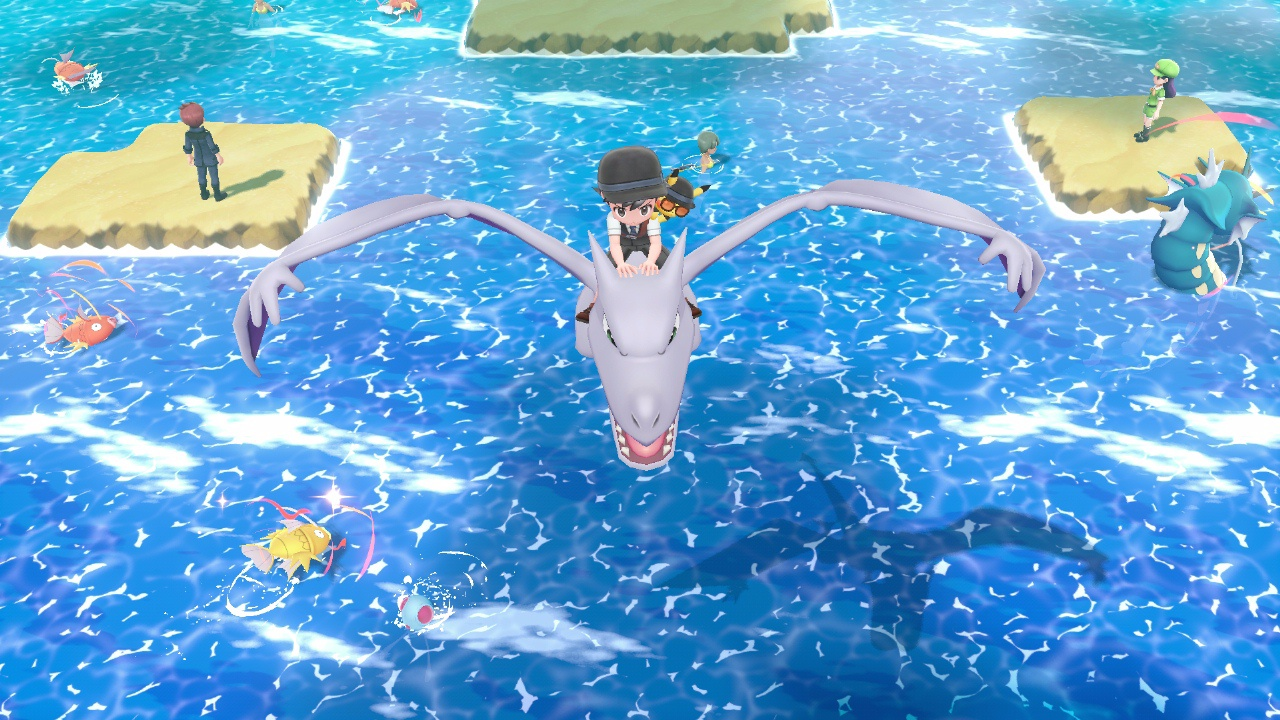Golden: (243, 518, 332, 577)
